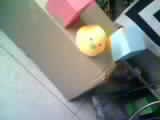duck: (68, 19, 110, 64)
